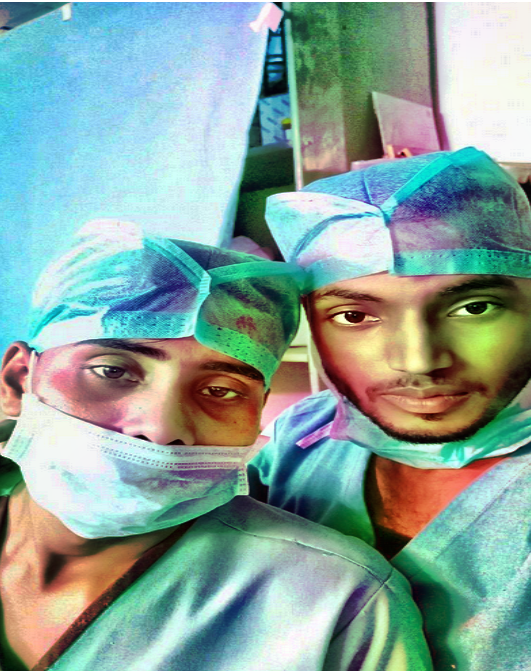mask_weared_incorrect: (11, 216, 304, 543), (271, 151, 531, 449)
